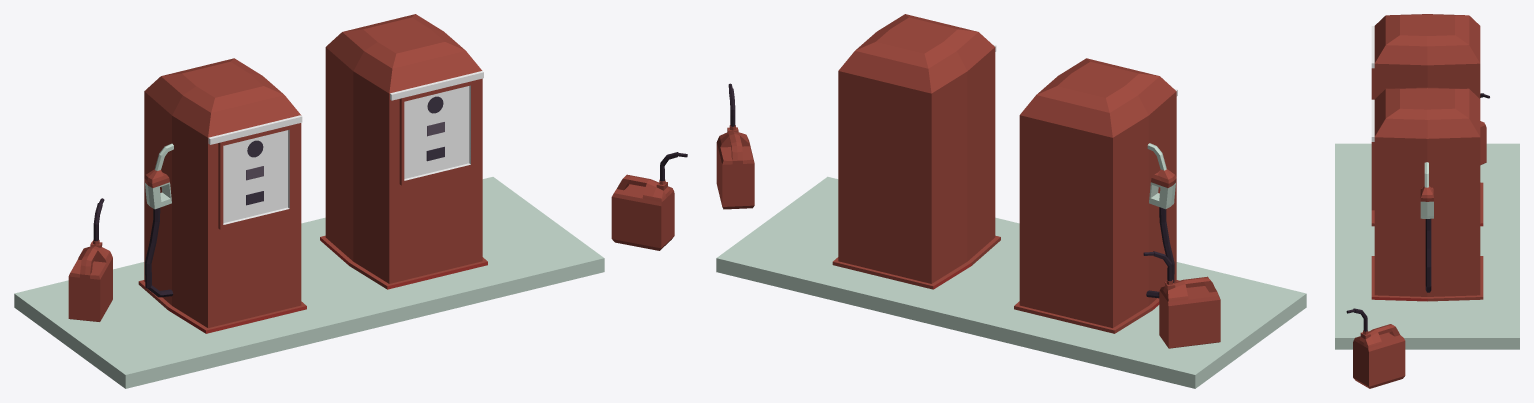
Rendered from Tankstelle.fbx.
3 views of the same model, side by side, from view 1: azimuth 30°, elevation 25°; view 2: azimuth 150°, elevation 25°; view 3: azimuth 270°, elevation 25° (orthographic). The views are drawn at different scales.
Visible parts, largest first — view 1: Tankstelle; view 2: Tankstelle; view 3: Tankstelle.
Part boxes in pixels (x1,y1,x2,y2): Tankstelle: (14,14,687,388); Tankstelle: (716,14,1306,388); Tankstelle: (1335,14,1519,388).
Size of the model in its own units: 7.47 by 2.95 by 2.53.
